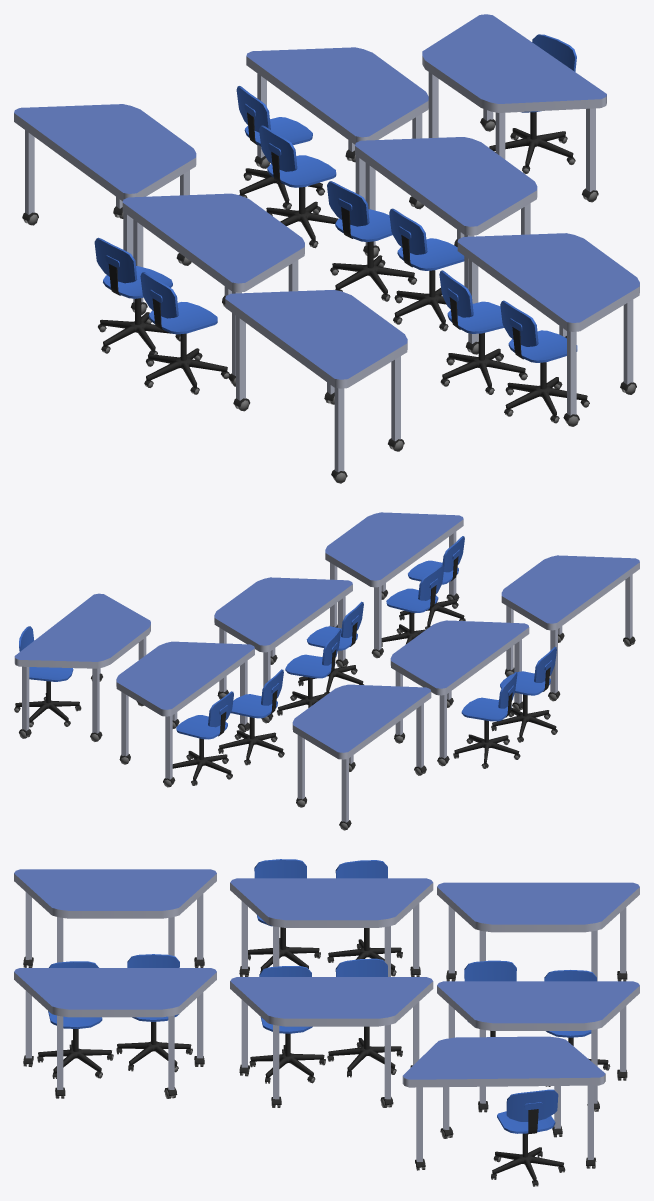
File: tablechairV3.fbx
The picture shows the model from 3 angles, top to bottom: view 1: azimuth 30°, elevation 25°; view 2: azimuth 150°, elevation 25°; view 3: azimuth 270°, elevation 25°; orthographic projection. The views are drawn at different scales.
Parts seen in each view (by area): view 1: table_blue5, table_blue2, table_blue9, table_blue3, table_blue4, table_blue, table_blue1, chair_blue8, chair_blue3, chair_blue5, chair_blue4, chair_blue1 (+4 smaller); view 2: table_blue3, table_blue, table_blue5, table_blue9, table_blue4, table_blue2, table_blue1, chair_blue, chair_blue1, chair_blue9, chair_blue8, chair_blue4 (+4 smaller); view 3: table_blue2, table_blue1, table_blue9, table_blue3, table_blue4, table_blue5, table_blue, chair_blue6, chair_blue3, chair_blue8, chair_blue2, chair_blue4 (+4 smaller).
Boxes of the visible parts, <box> form: table_blue5: <box>225,290,407,483</box>; table_blue2: <box>457,233,639,426</box>; table_blue9: <box>422,14,606,202</box>; table_blue3: <box>14,104,196,265</box>; table_blue4: <box>122,193,304,386</box>; table_blue: <box>246,47,428,209</box>; table_blue1: <box>355,137,537,288</box>; chair_blue8: <box>140,272,229,394</box>; chair_blue3: <box>327,181,416,301</box>; chair_blue5: <box>500,300,589,423</box>; chair_blue4: <box>439,270,527,394</box>; chair_blue1: <box>259,125,337,248</box>; table_blue3: <box>292,684,431,830</box>; table_blue: <box>116,641,254,787</box>; table_blue5: <box>501,555,639,701</box>; table_blue9: <box>14,593,150,741</box>; table_blue4: <box>390,620,529,766</box>; table_blue2: <box>325,512,463,658</box>; table_blue1: <box>214,577,352,723</box>; chair_blue: <box>172,691,233,785</box>; chair_blue1: <box>218,669,284,765</box>; chair_blue9: <box>453,672,520,768</box>; chair_blue8: <box>491,646,557,742</box>; chair_blue4: <box>381,565,444,646</box>; table_blue2: <box>14,968,216,1098</box>; table_blue1: <box>230,977,433,1107</box>; table_blue9: <box>402,1036,605,1170</box>; table_blue3: <box>437,882,639,981</box>; table_blue4: <box>230,878,433,976</box>; table_blue5: <box>14,869,216,967</box>; table_blue: <box>437,981,639,1112</box>; chair_blue6: <box>491,1089,565,1186</box>; chair_blue3: <box>327,958,402,1077</box>; chair_blue8: <box>248,859,320,972</box>; chair_blue2: <box>249,966,325,1083</box>; chair_blue4: <box>116,954,192,1072</box>.
Size of the model in its own units: 0.1041 by 0.0191 by 0.1141.
